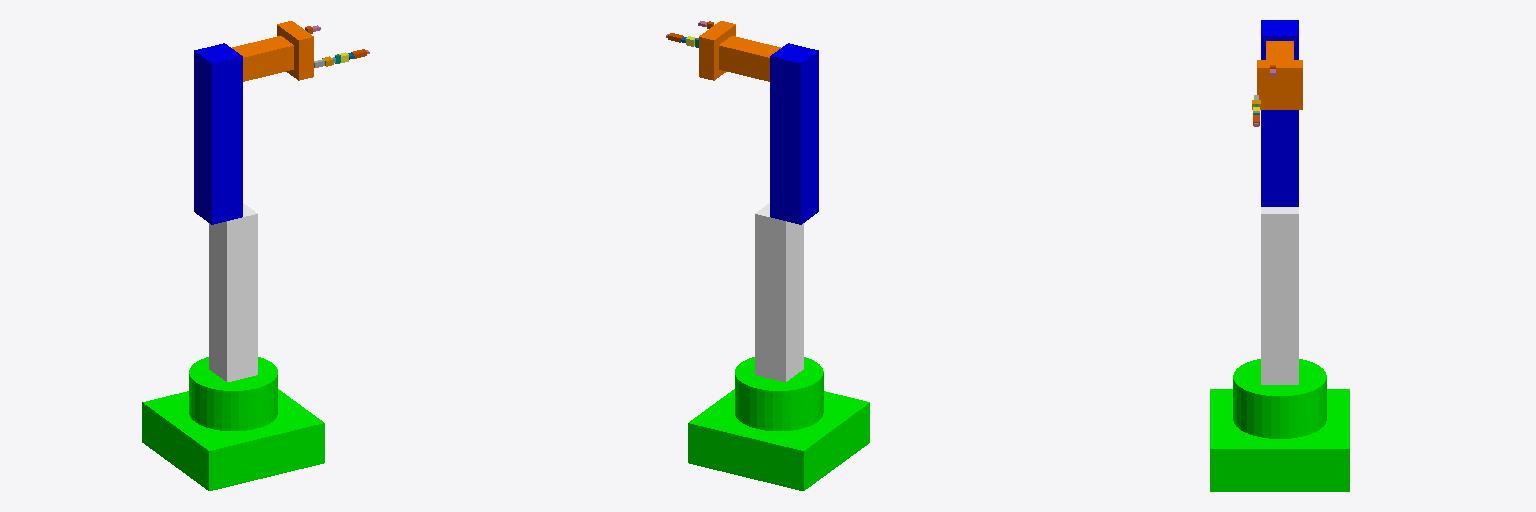
The robot description file, URDF, robot "robot":
<?xml version='1.0' encoding='utf-8'?>
<robot name="robot">
  <link name="base_link">
    <visual>
      <origin xyz="0 0 0.125" rpy="0 0 0" />
      <geometry>
        <box size="0.75 0.75 0.25" />
      </geometry>
      <material name="green" />
    </visual>
    <visual>
      <origin xyz="0 0 0.375" rpy="0 0 0" />
      <geometry>
        <cylinder length="0.25" radius="0.25" />
      </geometry>
      <material name="green">
        <color rgba="0 1 0 1" />
      </material>
    </visual>
    <collision>
      <geometry>
        <box size="0.75 0.75 0.5" />
      </geometry>
    </collision>
    <inertial>
      <mass value="0.5" />
      <inertia ixx="0.034" ixy="0.0" ixz="0.0" iyy="0.034" iyz="0.0" izz="0.034" />
    </inertial>
  </link>
  <link name="support_link">
    <visual>
      <origin xyz="0 0 0.5" rpy="0 0 0" />
      <geometry>
        <box size="0.2 0.2 1" />
      </geometry>
      <material name="white">
        <color rgba="1 1 1 1" />
      </material>
    </visual>
    <collision>
      <geometry>
        <box size="0.2 0.2 1" />
      </geometry>
    </collision>
    <inertial>
      <mass value="0.1" />
      <inertia ixx="0.01" ixy="0.0" ixz="0.0" iyy="0.01" iyz="0.0" izz="0.01" />
    </inertial>
  </link>
  <joint name="support_joint" type="continuous">
    <origin xyz="0 0 0.5" rpy="0 0 0" />
    <parent link="base_link" />
    <child link="support_link" />
    <axis xyz="0 0 1" />
  </joint>
  <link name="arm_link">
    <visual>
      <origin xyz="0 0 0.5" rpy="0 0 0" />
      <geometry>
        <box size="0.2 0.2 1" />
      </geometry>
      <material name="blue">
        <color rgba="0 0 1 1" />
      </material>
    </visual>
    <collision>
      <geometry>
        <box size="0.2 0.2 1" />
      </geometry>
    </collision>
    <inertial>
      <mass value="0.1" />
      <inertia ixx="0.01" ixy="0.0" ixz="0.0" iyy="0.01" iyz="0.0" izz="0.01" />
    </inertial>
  </link>
  <joint name="arm_joint" type="revolute">
    <origin xyz="-0.1 0 1" rpy="0 0 0" />
    <parent link="support_link" />
    <child link="arm_link" />
    <axis xyz="0 1 0" />
    <limit lower="-3.14" upper="3.14" effort="1.0" velocity="1.0" />
  </joint>
  <link name="wrist_link">
    <visual>
      <origin xyz="0 0 0.25" rpy="0 0 0" />
      <geometry>
        <box size="0.15 0.15 0.5" />
      </geometry>
      <material name="orange">
        <color rgba="1 0.5 0 1" />
      </material>
    </visual>
    <collision>
      <geometry>
        <box size="0.15 0.15 0.5" />
      </geometry>
    </collision>
    <inertial>
      <mass value="0.1" />
      <inertia ixx="0.01" ixy="0.0" ixz="0.0" iyy="0.01" iyz="0.0" izz="0.01" />
    </inertial>
  </link>
  <joint name="wrist_joint" type="fixed">
    <origin xyz="0 0 0.9" rpy="0 1.571 0" />
    <parent link="arm_link" />
    <child link="wrist_link" />
  </joint>
  <link name="palm_link">
    <visual>
      <origin xyz="0 0 0.05" rpy="0 0 0" />
      <geometry>
        <box size="0.25 0.25 0.1" />
      </geometry>
      <material name="orange" />
    </visual>
    <collision>
      <geometry>
        <box size="0.25 0.25 0.1" />
      </geometry>
    </collision>
    <inertial>
      <mass value="0.1" />
      <inertia ixx="0.01" ixy="0.0" ixz="0.0" iyy="0.01" iyz="0.0" izz="0.01" />
    </inertial>
  </link>
  <joint name="palm_joint" type="fixed">
    <origin xyz="0 0 0.45" rpy="0 0 0" />
    <parent link="wrist_link" />
    <child link="palm_link" />
  </joint>
  <link name="finger_link_0_0">
    <visual>
      <origin xyz="0 0 0.0165" rpy="0 0 0" />
      <geometry>
        <box size="0.036 0.032 0.033" />
      </geometry>
    </visual>
    <collision>
      <geometry>
        <box size="0.036 0.032 0.033" />
      </geometry>
    </collision>
    <inertial>
      <mass value="0.011" />
      <inertia ixx="0.0" iyy="0.0" izz="0.0" ixy="0" ixz="0" iyz="0" />
    </inertial>
  </link>
  <joint name="finger_joint_palm_link_to_finger_link_0_0" type="revolute">
    <origin xyz="-0.125 -0.036 0.1" rpy="0 0 0" />
    <parent link="palm_link" />
    <child link="finger_link_0_0" />
    <axis xyz="1.0 0.0 0.0" />
    <limit lower="-3.142" upper="3.142" effort="10" velocity="10" />
  </joint>
  <link name="finger_link_0_1">
    <visual>
      <origin xyz="0 0 0.026" rpy="0 0 0" />
      <geometry>
        <box size="0.017 0.034 0.052" />
      </geometry>
    </visual>
    <collision>
      <geometry>
        <box size="0.017 0.034 0.052" />
      </geometry>
    </collision>
    <inertial>
      <mass value="0.009" />
      <inertia ixx="0.0" iyy="0.0" izz="0.0" ixy="0" ixz="0" iyz="0" />
    </inertial>
  </link>
  <joint name="finger_joint_finger_link_0_0_to_finger_link_0_1" type="revolute">
    <origin xyz="0.0 0.0 0.033" rpy="0 0 0" />
    <parent link="finger_link_0_0" />
    <child link="finger_link_0_1" />
    <axis xyz="0.0 1.0 0.0" />
    <limit lower="-3.142" upper="3.142" effort="10" velocity="10" />
  </joint>
  <link name="finger_link_1_0">
    <visual>
      <origin xyz="0 0 0.033" rpy="0 0 0" />
      <geometry>
        <box size="0.032 0.025 0.066" />
      </geometry>
    </visual>
    <collision>
      <geometry>
        <box size="0.032 0.025 0.066" />
      </geometry>
    </collision>
    <inertial>
      <mass value="0.016" />
      <inertia ixx="0.0" iyy="0.0" izz="0.0" ixy="0" ixz="0" iyz="0" />
    </inertial>
  </link>
  <joint name="finger_joint_palm_link_to_finger_link_1_0" type="revolute">
    <origin xyz="0.05 -0.125 0.1" rpy="0 0 0" />
    <parent link="palm_link" />
    <child link="finger_link_1_0" />
    <axis xyz="0.0 1.0 0.0" />
    <limit lower="-3.142" upper="3.142" effort="10" velocity="10" />
  </joint>
  <link name="finger_link_1_1">
    <visual>
      <origin xyz="0 0 0.024" rpy="0 0 0" />
      <geometry>
        <box size="0.035 0.045 0.048" />
      </geometry>
    </visual>
    <collision>
      <geometry>
        <box size="0.035 0.045 0.048" />
      </geometry>
    </collision>
    <inertial>
      <mass value="0.023" />
      <inertia ixx="0.0" iyy="0.0" izz="0.0" ixy="0" ixz="0" iyz="0" />
    </inertial>
  </link>
  <joint name="finger_joint_finger_link_1_0_to_finger_link_1_1" type="revolute">
    <origin xyz="0.0 0.0 0.066" rpy="0 0 0" />
    <parent link="finger_link_1_0" />
    <child link="finger_link_1_1" />
    <axis xyz="1.0 0.0 0.0" />
    <limit lower="-3.142" upper="3.142" effort="10" velocity="10" />
  </joint>
  <link name="finger_link_1_2">
    <visual>
      <origin xyz="0 0 0.0125" rpy="0 0 0" />
      <geometry>
        <box size="0.025 0.02 0.025" />
      </geometry>
    </visual>
    <collision>
      <geometry>
        <box size="0.025 0.02 0.025" />
      </geometry>
    </collision>
    <inertial>
      <mass value="0.004" />
      <inertia ixx="0.0" iyy="0.0" izz="0.0" ixy="0" ixz="0" iyz="0" />
    </inertial>
  </link>
  <joint name="finger_joint_finger_link_1_1_to_finger_link_1_2" type="revolute">
    <origin xyz="0.0 0.0 0.048" rpy="0 0 0" />
    <parent link="finger_link_1_1" />
    <child link="finger_link_1_2" />
    <axis xyz="1.0 0.0 0.0" />
    <limit lower="-3.142" upper="3.142" effort="10" velocity="10" />
  </joint>
  <link name="finger_link_1_3">
    <visual>
      <origin xyz="0 0 0.0135" rpy="0 0 0" />
      <geometry>
        <box size="0.05 0.019 0.027" />
      </geometry>
    </visual>
    <collision>
      <geometry>
        <box size="0.05 0.019 0.027" />
      </geometry>
    </collision>
    <inertial>
      <mass value="0.008" />
      <inertia ixx="0.0" iyy="0.0" izz="0.0" ixy="0" ixz="0" iyz="0" />
    </inertial>
  </link>
  <joint name="finger_joint_finger_link_1_2_to_finger_link_1_3" type="revolute">
    <origin xyz="0.0 0.0 0.025" rpy="0 0 0" />
    <parent link="finger_link_1_2" />
    <child link="finger_link_1_3" />
    <axis xyz="1.0 0.0 0.0" />
    <limit lower="-3.142" upper="3.142" effort="10" velocity="10" />
  </joint>
  <link name="finger_link_1_4">
    <visual>
      <origin xyz="0 0 0.0255" rpy="0 0 0" />
      <geometry>
        <box size="0.042 0.037 0.051" />
      </geometry>
    </visual>
    <collision>
      <geometry>
        <box size="0.042 0.037 0.051" />
      </geometry>
    </collision>
    <inertial>
      <mass value="0.024" />
      <inertia ixx="0.0" iyy="0.0" izz="0.0" ixy="0" ixz="0" iyz="0" />
    </inertial>
  </link>
  <joint name="finger_joint_finger_link_1_3_to_finger_link_1_4" type="revolute">
    <origin xyz="0.0 0.0 0.027" rpy="0 0 0" />
    <parent link="finger_link_1_3" />
    <child link="finger_link_1_4" />
    <axis xyz="0.0 1.0 0.0" />
    <limit lower="-3.142" upper="3.142" effort="10" velocity="10" />
  </joint>
  <link name="finger_link_1_5">
    <visual>
      <origin xyz="0 0 0.0165" rpy="0 0 0" />
      <geometry>
        <box size="0.017 0.042 0.033" />
      </geometry>
    </visual>
    <collision>
      <geometry>
        <box size="0.017 0.042 0.033" />
      </geometry>
    </collision>
    <inertial>
      <mass value="0.007" />
      <inertia ixx="0.0" iyy="0.0" izz="0.0" ixy="0" ixz="0" iyz="0" />
    </inertial>
  </link>
  <joint name="finger_joint_finger_link_1_4_to_finger_link_1_5" type="revolute">
    <origin xyz="0.0 0.0 0.051" rpy="0 0 0" />
    <parent link="finger_link_1_4" />
    <child link="finger_link_1_5" />
    <axis xyz="0.0 1.0 0.0" />
    <limit lower="-3.142" upper="3.142" effort="10" velocity="10" />
  </joint>
  <link name="finger_link_1_6">
    <visual>
      <origin xyz="0 0 0.042" rpy="0 0 0" />
      <geometry>
        <box size="0.028 0.039 0.084" />
      </geometry>
    </visual>
    <collision>
      <geometry>
        <box size="0.028 0.039 0.084" />
      </geometry>
    </collision>
    <inertial>
      <mass value="0.028" />
      <inertia ixx="0.0" iyy="0.0" izz="0.0" ixy="0" ixz="0" iyz="0" />
    </inertial>
  </link>
  <joint name="finger_joint_finger_link_1_5_to_finger_link_1_6" type="revolute">
    <origin xyz="0.0 0.0 0.033" rpy="0 0 0" />
    <parent link="finger_link_1_5" />
    <child link="finger_link_1_6" />
    <axis xyz="0.0 1.0 0.0" />
    <limit lower="-3.142" upper="3.142" effort="10" velocity="10" />
  </joint>
  <link name="finger_link_1_7">
    <visual>
      <origin xyz="0 0 0.0085" rpy="0 0 0" />
      <geometry>
        <box size="0.014 0.028 0.017" />
      </geometry>
    </visual>
    <collision>
      <geometry>
        <box size="0.014 0.028 0.017" />
      </geometry>
    </collision>
    <inertial>
      <mass value="0.002" />
      <inertia ixx="0.0" iyy="0.0" izz="0.0" ixy="0" ixz="0" iyz="0" />
    </inertial>
  </link>
  <joint name="finger_joint_finger_link_1_6_to_finger_link_1_7" type="revolute">
    <origin xyz="0.0 0.0 0.084" rpy="0 0 0" />
    <parent link="finger_link_1_6" />
    <child link="finger_link_1_7" />
    <axis xyz="0.0 1.0 0.0" />
    <limit lower="-3.142" upper="3.142" effort="10" velocity="10" />
  </joint>
</robot>

--- Render facts (derived) ---
3 views of the same robot in one strip: view 1: azimuth 30°, elevation 25°; view 2: azimuth 150°, elevation 25°; view 3: azimuth 270°, elevation 25° (orthographic).
Model robot with 15 links and 14 joints (11 revolute, 1 continuous, 2 fixed), rooted at base_link, posed every joint at zero.
Visible links, largest first — view 1: base_link, arm_link, support_link, wrist_link, palm_link; view 2: base_link, arm_link, support_link, wrist_link, palm_link; view 3: base_link, support_link, arm_link, palm_link, wrist_link.
Link boxes in pixels (box(x1,y1,x2,y2)): base_link: box(142, 357, 324, 490); arm_link: box(194, 43, 242, 224); support_link: box(209, 203, 257, 381); wrist_link: box(232, 36, 293, 81); palm_link: box(277, 21, 313, 80); base_link: box(688, 357, 869, 490); arm_link: box(770, 43, 818, 224); support_link: box(755, 203, 803, 382); wrist_link: box(719, 36, 780, 81); palm_link: box(699, 21, 735, 80); base_link: box(1210, 359, 1349, 491); support_link: box(1261, 207, 1298, 384); arm_link: box(1261, 20, 1298, 206); palm_link: box(1257, 60, 1302, 109); wrist_link: box(1266, 41, 1293, 59).
Size in the robot's own frame: 1.18 by 0.75 by 2.54 metres.
Geometry: primitives only (box / cylinder / sphere), no mesh files.